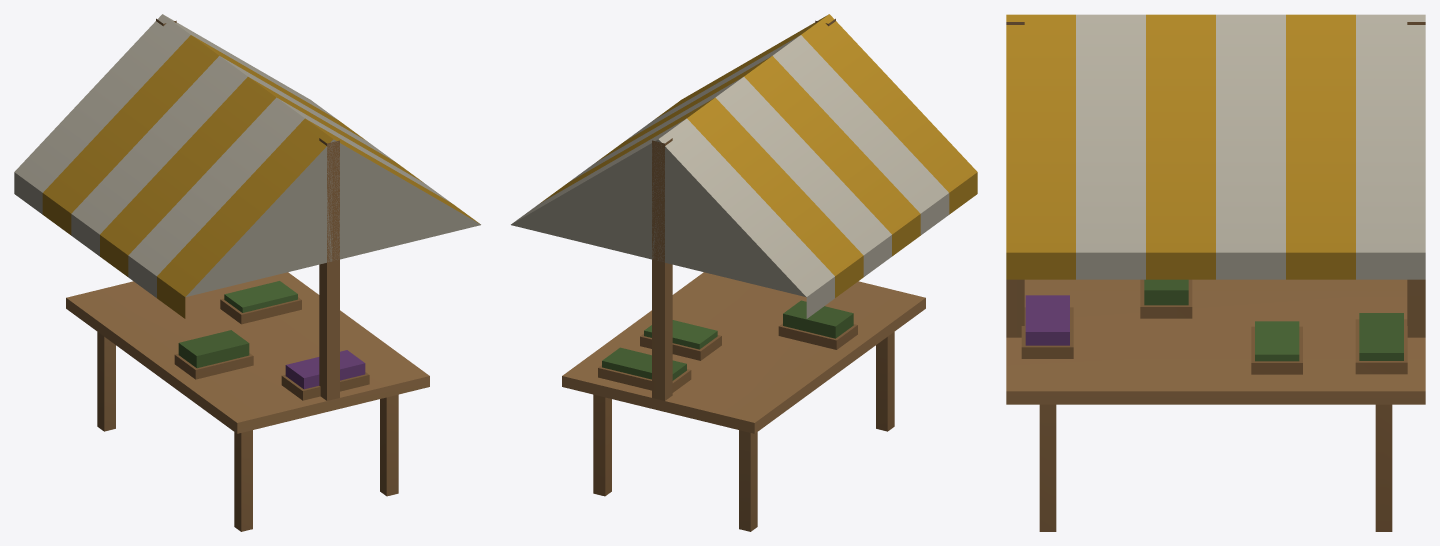
Rendered from stall.market.yellow.glb.
The picture shows the model from 3 angles, left to right: view 1: azimuth 30°, elevation 25°; view 2: azimuth 150°, elevation 25°; view 3: azimuth 270°, elevation 25°; orthographic projection. The views are drawn at different scales.
Visible parts, largest first — view 1: stall_market_yellow; view 2: stall_market_yellow; view 3: stall_market_yellow.
Boxes of the visible parts, box(x1,y1,x2,y2) form: stall_market_yellow: box(14, 14, 480, 531); stall_market_yellow: box(511, 14, 977, 531); stall_market_yellow: box(1006, 14, 1425, 531).
Size of what is drawn, in the model's own units: 2.26 by 2.8 by 2.26.
